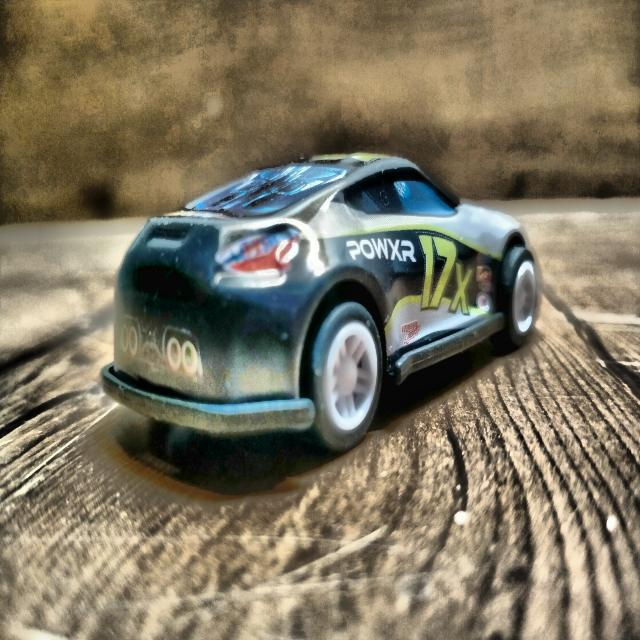Car: (102, 156, 537, 450)
